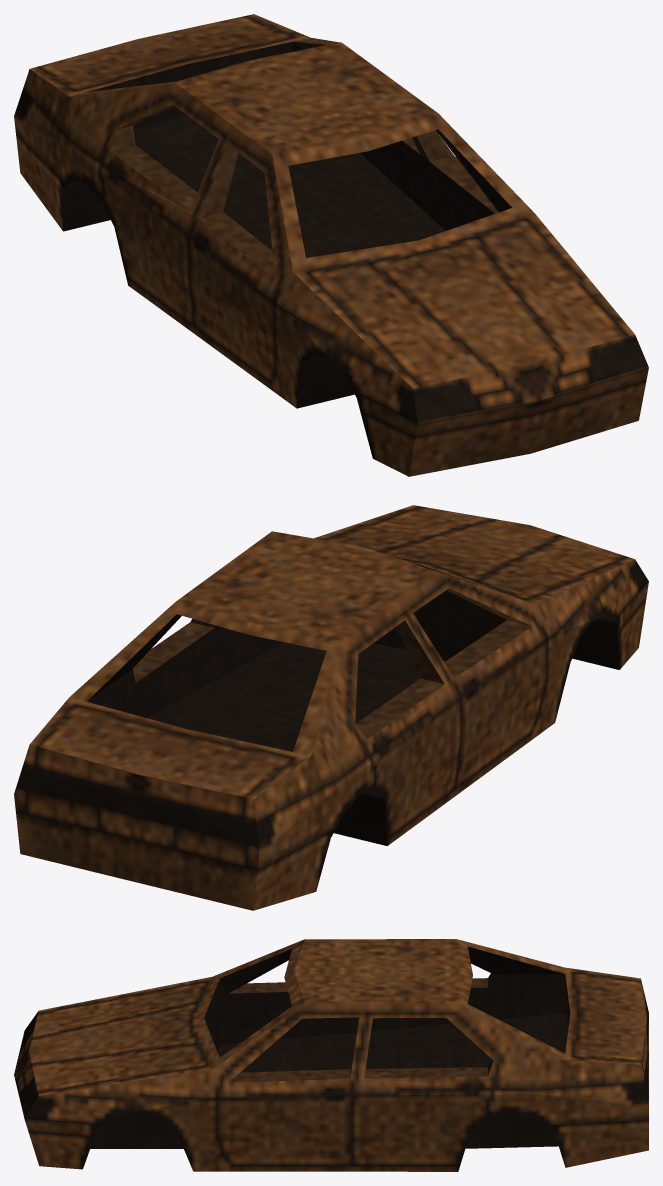
3 views of the same model, one above another, from view 1: azimuth 30°, elevation 25°; view 2: azimuth 150°, elevation 25°; view 3: azimuth 270°, elevation 25° (orthographic). The views are drawn at different scales.
Parts seen in each view (by area): view 1: car6; view 2: car6; view 3: car6.
Part boxes in pixels (x1,y1,x2,y2): car6: (14, 14, 648, 476); car6: (14, 505, 648, 910); car6: (14, 939, 648, 1171).
Size of the model in its own units: 2.48 by 1.67 by 6.36.
Materials: 1 (1 with a texture image).
